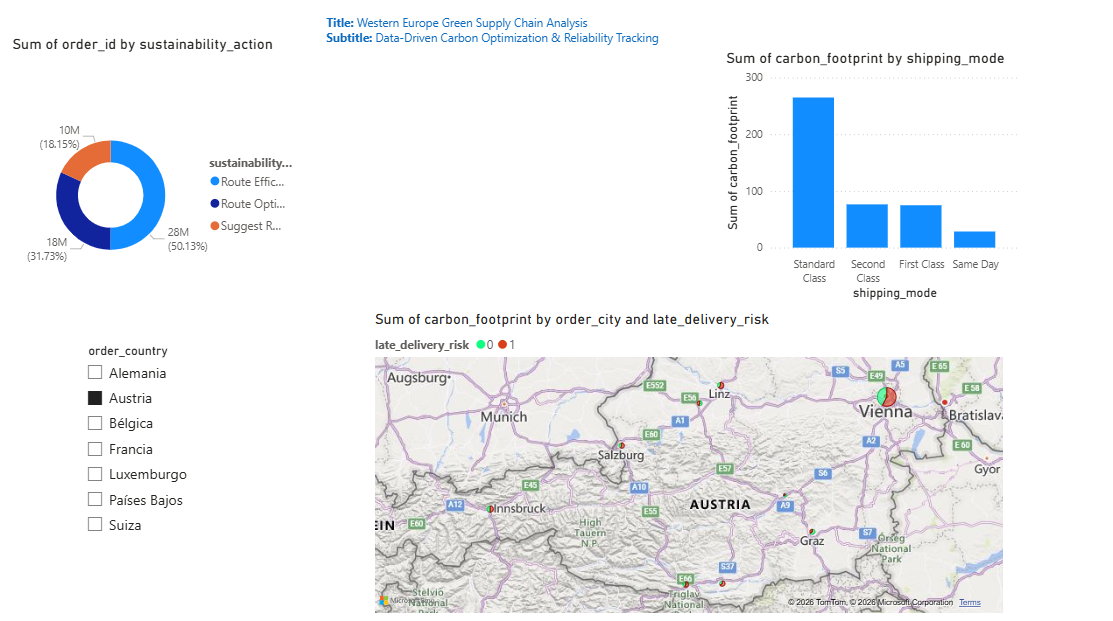

The page's visual inventory and layout, read from the dashboard file:
{"tool":"powerbi","page":{"name":"Page 1","canvas":[1280,720],"ordinal":0},"visuals":[{"type":"donutChart","fields":{"Category":["Optimized_Green_Supply_Chain.sustainability_action"],"Y":["Sum(Optimized_Green_Supply_Chain.order_id)"]},"box":[11,45.3,332.1,347.2],"z":0},{"type":"clusteredColumnChart","fields":{"Category":["Optimized_Green_Supply_Chain.shipping_mode"],"Y":["Sum(Optimized_Green_Supply_Chain.carbon_footprint)"]},"box":[827.4,61.7,344.4,292.3],"z":1000},{"type":"slicer","fields":{"Values":["Optimized_Green_Supply_Chain.order_country"]},"box":[90.6,392.5,279.9,328],"z":2000},{"type":"map","fields":{"Category":["Optimized_Green_Supply_Chain.order_city"],"Size":["Sum(Optimized_Green_Supply_Chain.carbon_footprint)"],"Series":["Optimized_Green_Supply_Chain.late_delivery_risk"]},"box":[425.4,359.5,727.3,351.3],"z":2001},{"type":"textbox","box":[370.5,16.5,456.9,45.3],"z":2002}]}

Visuals, with their boxes in screenshot pixels (x1, y1, x2, y2), scaled from the page's 1280x720 canvas onto the 1113x621 screenshot:
donutChart - Optimized_Green_Supply_Chain.sustainability_action x Sum(Optimized_Green_Supply_Chain.order_id): (10,39,298,339)
clusteredColumnChart - Optimized_Green_Supply_Chain.shipping_mode x Sum(Optimized_Green_Supply_Chain.carbon_footprint): (719,53,1019,305)
slicer - Optimized_Green_Supply_Chain.order_country: (79,339,322,620)
map - Optimized_Green_Supply_Chain.order_city x Sum(Optimized_Green_Supply_Chain.carbon_footprint): (370,310,1002,613)
textbox: (322,14,719,53)
